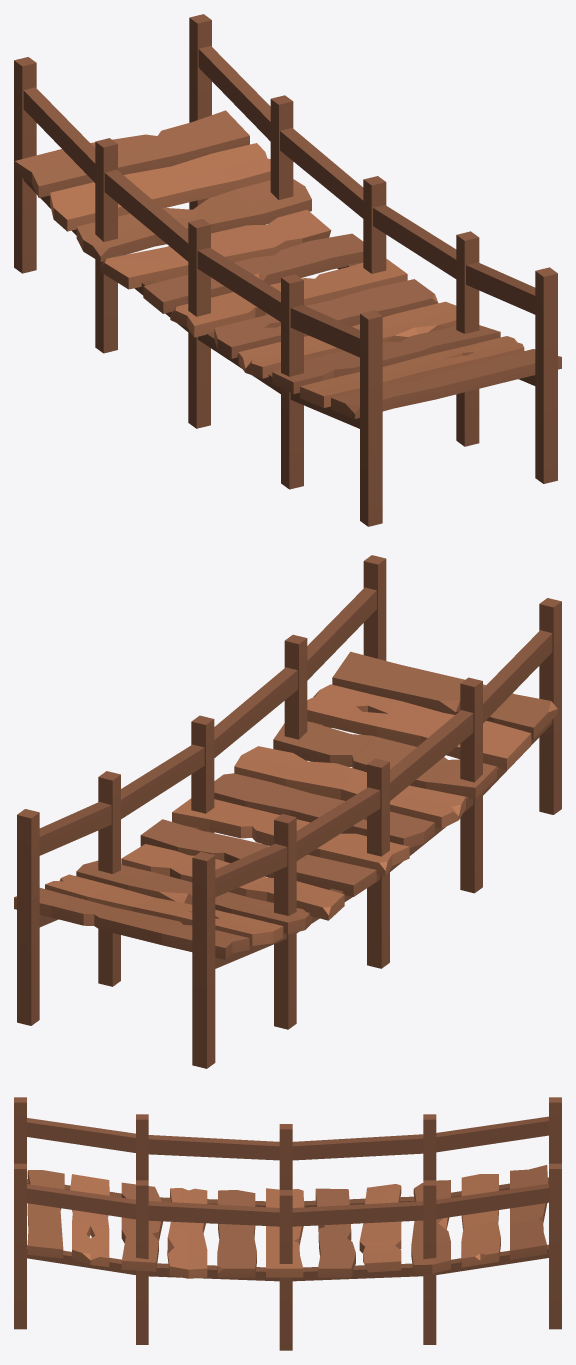
Rendered from wooden bridge.fbx.
3 renders of one model, top to bottom at view 1: azimuth 30°, elevation 25°; view 2: azimuth 150°, elevation 25°; view 3: azimuth 270°, elevation 25°, orthographic. The views are drawn at different scales.
Visible parts, largest first — view 1: wooden bridge; view 2: wooden bridge; view 3: wooden bridge.
Part boxes in pixels (left/top/right/bottom): wooden bridge: left=14, top=14, right=561, bottom=526; wooden bridge: left=14, top=555, right=561, bottom=1068; wooden bridge: left=14, top=1097, right=561, bottom=1350.
Bounding box in the file's own units: 334 × 334 × 912.
